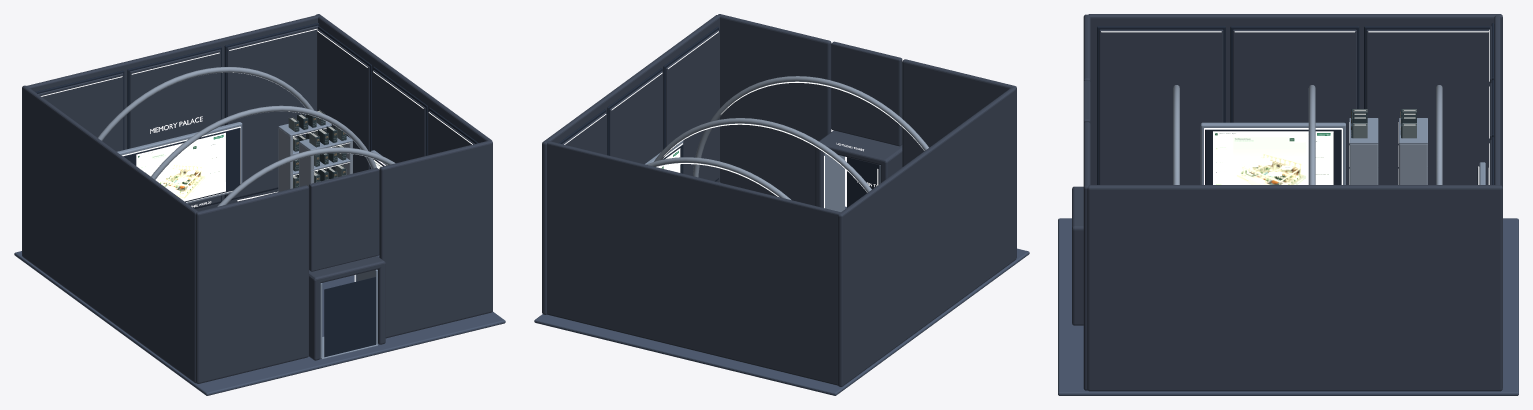
File: memory.glb
3 renders of one model, left to right at view 1: azimuth 30°, elevation 25°; view 2: azimuth 150°, elevation 25°; view 3: azimuth 270°, elevation 25°, orthographic. The views are drawn at different scales.
Visible parts, largest first — view 1: V14 memory / V14 memory / shell.004 finish, V14 memory / Lateral hull.008, V14 memory / Rear hull wing.008, V14 memory / Rear hull wing.009, V14 memory / Continuous satin deck.004, V14 memory / V14 memory / dark.004 finish, V14 memory / Original artwork / memory-product.008, V14 memory / Return aperture.004, V14 memory / Front hull.004, V14 memory / V14 memory / metal.004 finish, V14 memory / Lateral hull.009, V14 memory / Canopy structural arch.016 (+7 smaller); view 2: V14 memory / Front hull.004, V14 memory / Lateral hull.008, V14 memory / V14 memory / shell.004 finish, V14 memory / Rear hull wing.009, V14 memory / Rear hull wing.008, V14 memory / Continuous satin deck.004, V14 memory / Lateral hull.009, V14 memory / Canopy structural arch.017, V14 memory / Canopy structural arch.016, V14 memory / V14 memory / metal.004 finish, V14 memory / V14 memory / dark.004 finish, V14 memory / Return aperture.004 (+1 smaller); view 3: V14 memory / Lateral hull.009, V14 memory / V14 memory / shell.004 finish, V14 memory / Continuous satin deck.004, V14 memory / Lateral hull.008, V14 memory / Original artwork / memory.004, V14 memory / V14 memory / dark.004 finish, V14 memory / V14 memory / pearl.004 finish, V14 memory / V14 memory / metal.004 finish, V14 memory / Rear hull wing.009, V14 memory / Front hull.004, V14 memory / V14 memory / white.004 finish, V14 memory / Canopy structural arch.016 (+6 smaller).
Boxes of the visible parts, x1,y1,x2,y2 form: V14 memory / V14 memory / shell.004 finish: (38,25,474,360); V14 memory / Lateral hull.008: (22,85,197,383); V14 memory / Rear hull wing.008: (196,185,308,383); V14 memory / Rear hull wing.009: (379,140,492,338); V14 memory / Continuous satin deck.004: (14,251,505,395); V14 memory / V14 memory / dark.004 finish: (35,23,477,208); V14 memory / Original artwork / memory-product.008: (136,132,225,201); V14 memory / Return aperture.004: (324,277,375,357); V14 memory / Front hull.004: (26,15,318,211); V14 memory / V14 memory / metal.004 finish: (117,121,387,359); V14 memory / Lateral hull.009: (316,14,491,155); V14 memory / Canopy structural arch.016: (151,105,376,179); V14 memory / Front hull.004: (546,140,841,385); V14 memory / Lateral hull.008: (837,87,1016,386); V14 memory / V14 memory / shell.004 finish: (562,30,902,207); V14 memory / Rear hull wing.009: (718,14,831,205); V14 memory / Rear hull wing.008: (902,59,1016,257); V14 memory / Continuous satin deck.004: (534,206,1029,395); V14 memory / Lateral hull.009: (542,15,719,314); V14 memory / Canopy structural arch.017: (693,76,928,177); V14 memory / Canopy structural arch.016: (654,118,871,192); V14 memory / V14 memory / metal.004 finish: (645,140,880,211); V14 memory / V14 memory / dark.004 finish: (558,26,718,181); V14 memory / Return aperture.004: (847,157,879,207); V14 memory / Lateral hull.009: (1087,185,1502,391); V14 memory / V14 memory / shell.004 finish: (1072,26,1491,325); V14 memory / Continuous satin deck.004: (1058,218,1518,395); V14 memory / Lateral hull.008: (1088,14,1502,187); V14 memory / Original artwork / memory.004: (1213,131,1333,184); V14 memory / V14 memory / dark.004 finish: (1097,23,1494,184); V14 memory / V14 memory / pearl.004 finish: (1349,144,1427,184); V14 memory / V14 memory / metal.004 finish: (1200,118,1485,184); V14 memory / Rear hull wing.009: (1083,122,1090,390); V14 memory / Front hull.004: (1494,15,1500,185); V14 memory / V14 memory / white.004 finish: (1101,29,1489,184); V14 memory / Canopy structural arch.016: (1308,85,1315,184).
Size of the model in its own units: 19.2 by 10.7 by 21.4.
14 materials, 3 textured.
